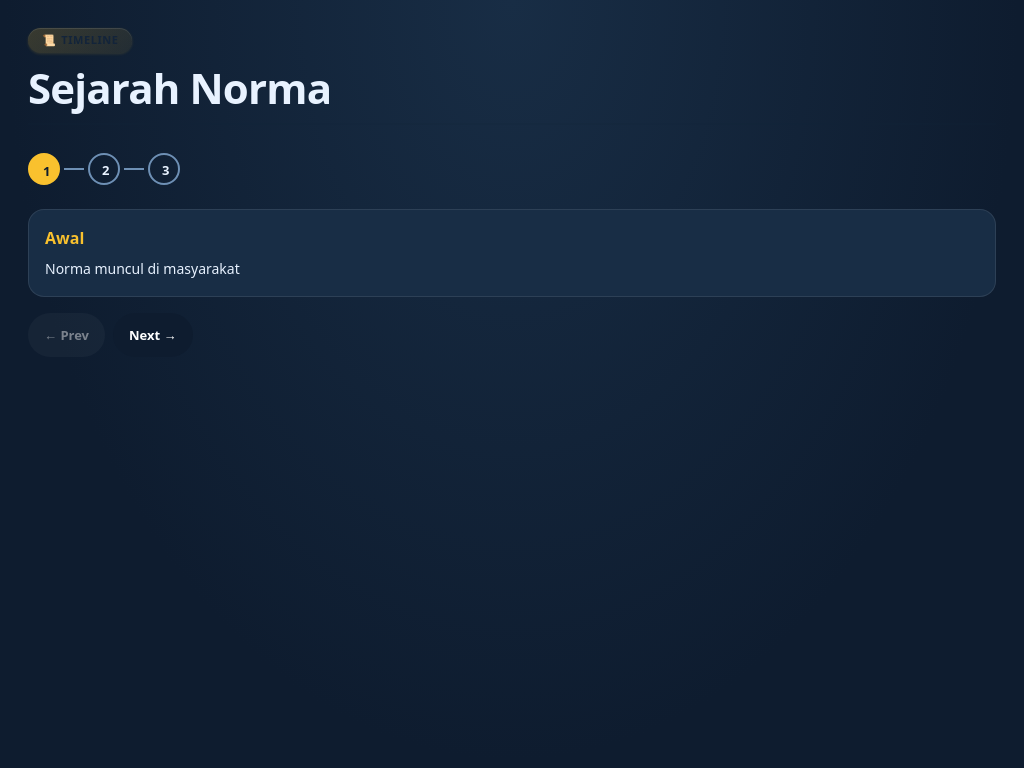
Test: PERFECT-MPI-RENDER-COMPLETE-02 — Scope A: Timeline Story › 3. timeline checkpoint feedback is helpful (not just benar/salah)
// Navigate to last step
Click the button with test id "timeline-step-e3" at (164, 169), box 148,153 -> 180,185
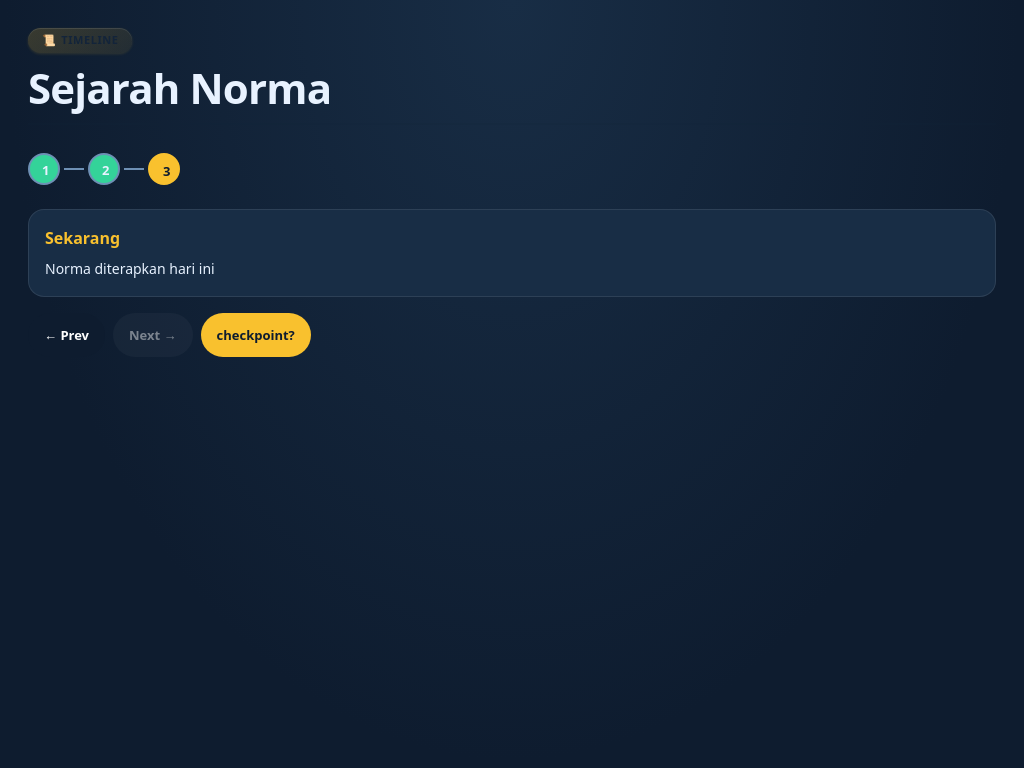
// Click checkpoint button
Click the button with test id "timeline-checkpoint" at (256, 335), box 200,313 -> 311,357
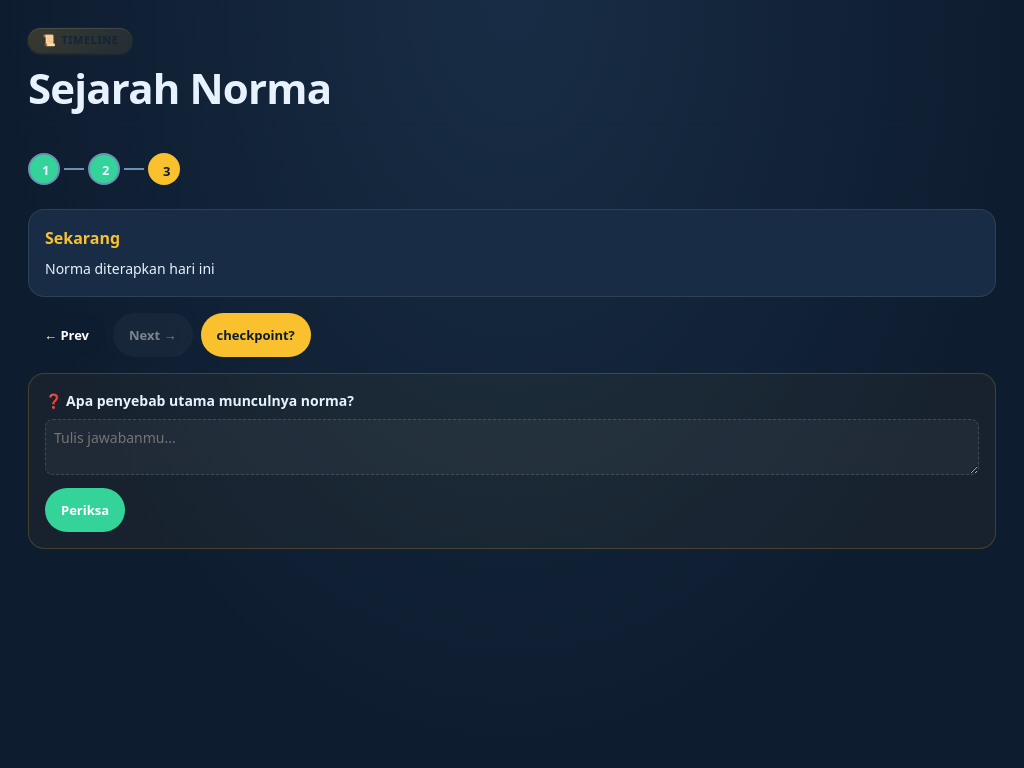
// Type wrong answer
Type "wrong answer" into the text box with test id "timeline-checkpoint-input" at (512, 447), box 45,419 -> 979,475
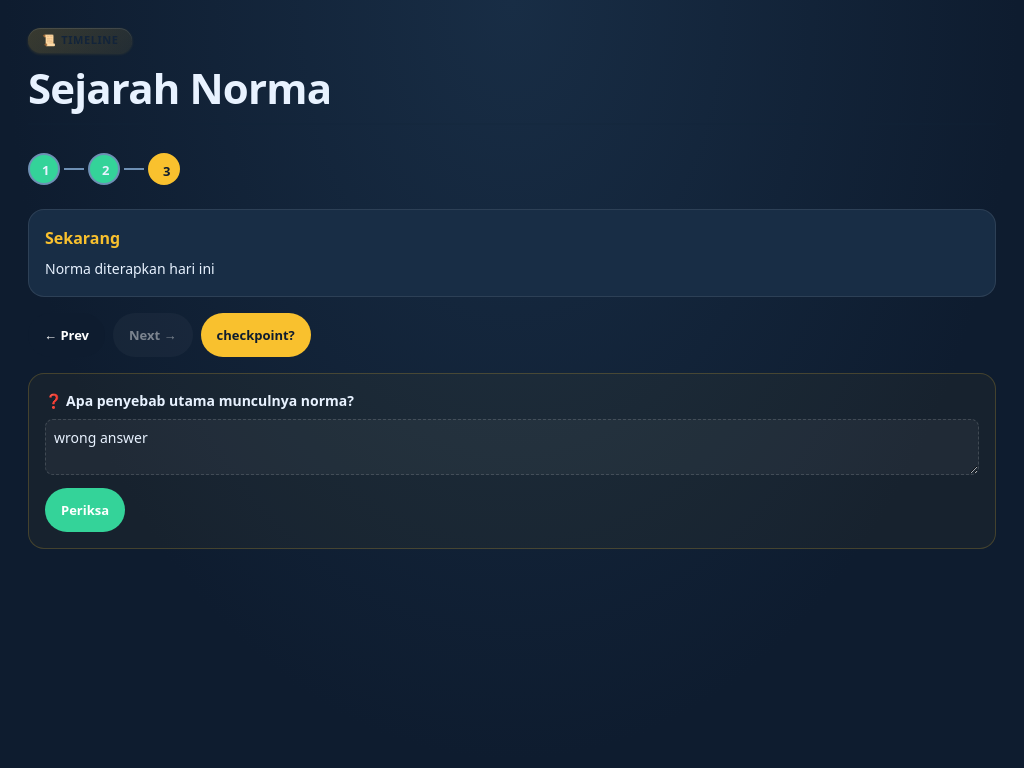
Click the button with test id "timeline-checkpoint-check" at (85, 510), box 45,488 -> 125,532
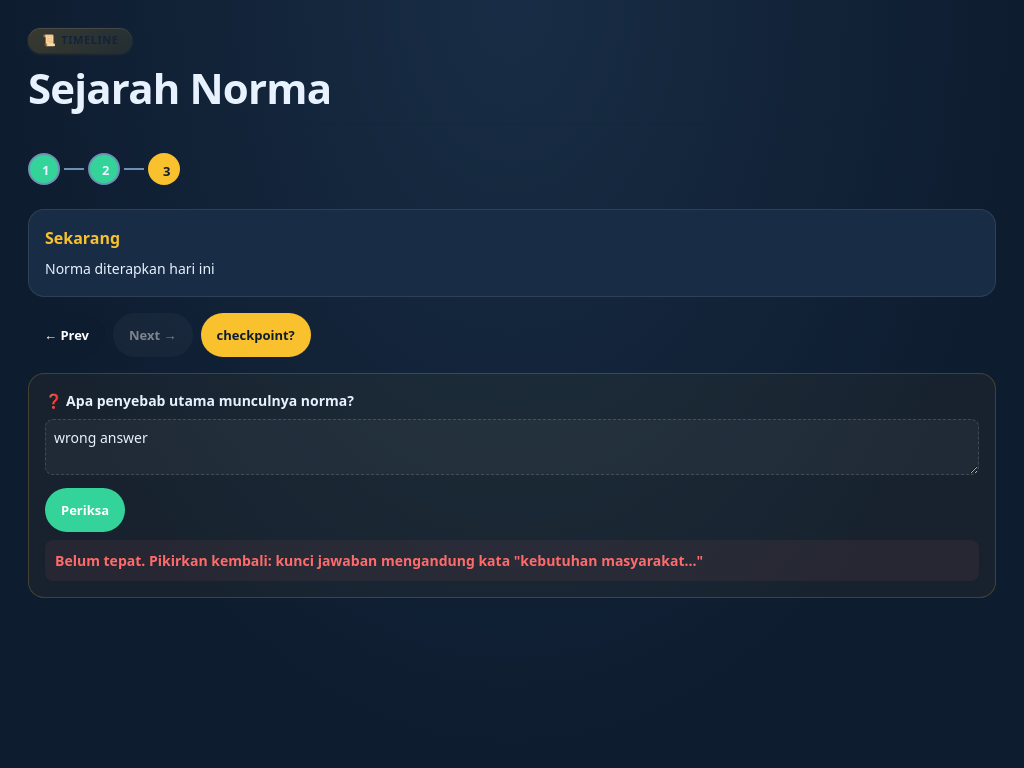
Now the text with test id "timeline-checkpoint-feedback" is shown, box 45,540 -> 979,581
Now the text with test id "timeline-checkpoint-feedback" shows "kebutuhan masyarakat", box 55,551 -> 703,570
